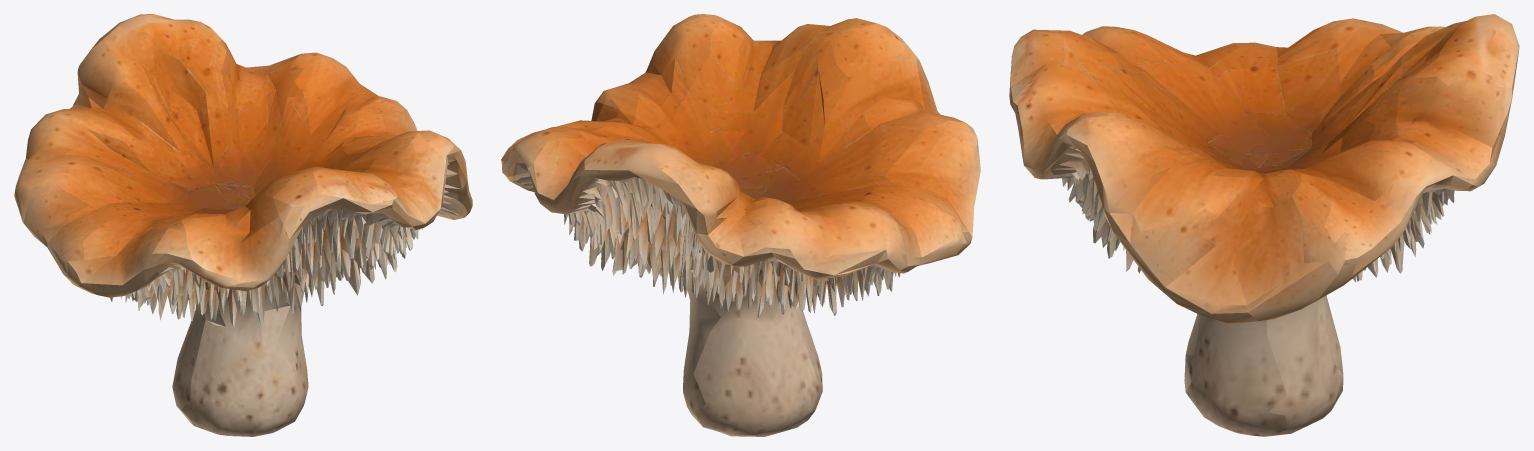
File: sigirdili.glb
3 renders of one model, left to right at view 1: azimuth 30°, elevation 25°; view 2: azimuth 150°, elevation 25°; view 3: azimuth 270°, elevation 25°, orthographic. The views are drawn at different scales.
Parts seen in each view (by area): view 1: output_unwrapped; view 2: output_unwrapped; view 3: output_unwrapped.
Boxes of the visible parts, x1,y1,x2,y2 form: output_unwrapped: (14,14,472,436); output_unwrapped: (501,14,980,436); output_unwrapped: (1009,14,1519,436).
Size of the model in its own units: 1.9 by 1.55 by 1.82.
1 material, 1 textured.
